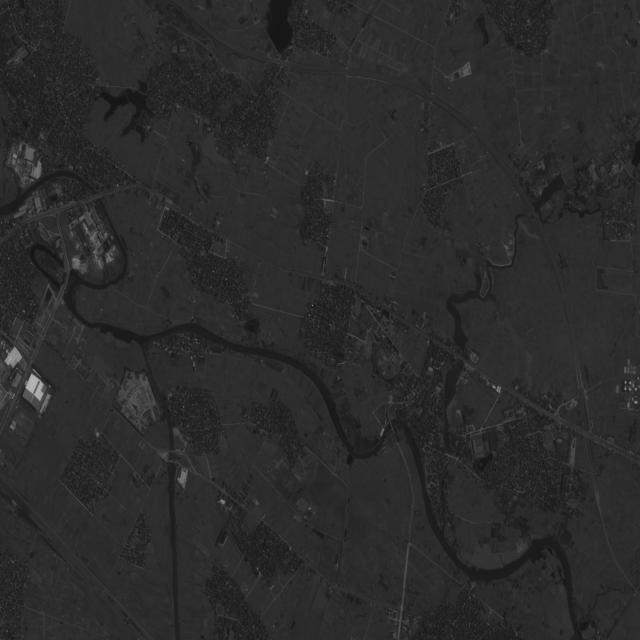storage-tank: (624, 387, 627, 391), (629, 381, 632, 385), (624, 380, 627, 384), (637, 377, 640, 380), (629, 388, 631, 392)
